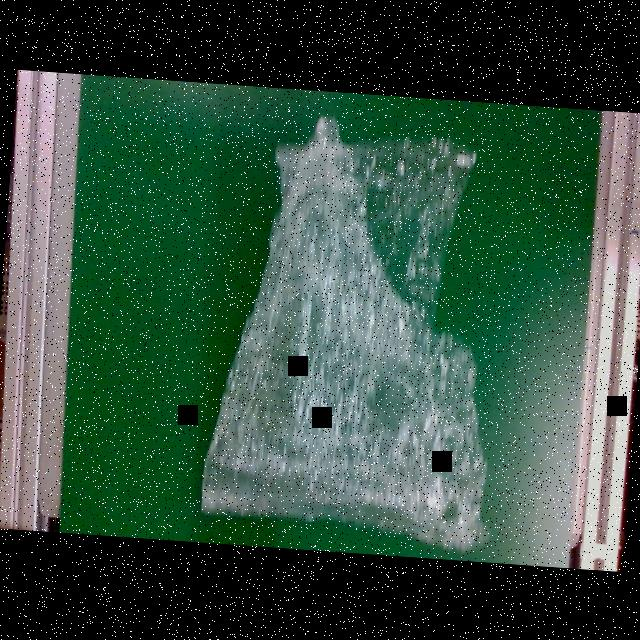scrap_plastic: (195, 105, 524, 555)
